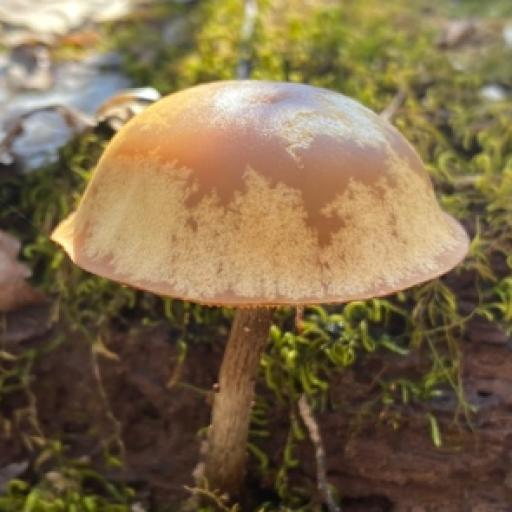mushroom: (56, 74, 486, 386)
